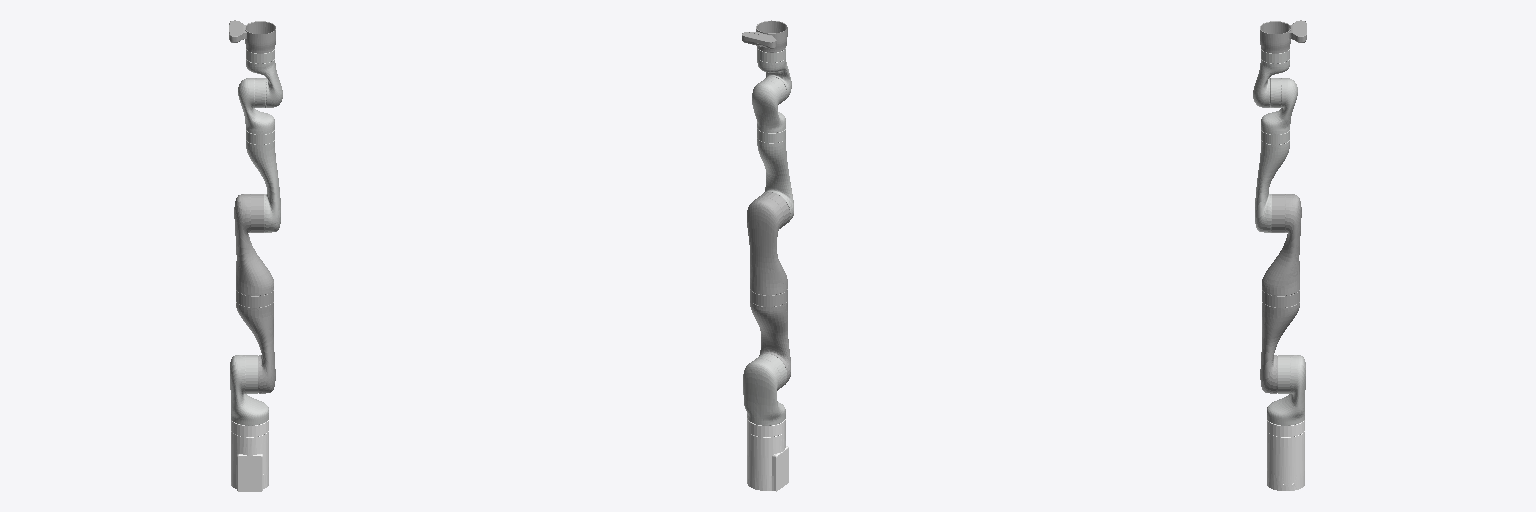
URDF robot description (GEN3-7DOF_BRAKES_VISION_URDF_ARM_V01):
<robot name="GEN3-7DOF_BRAKES_VISION_URDF_ARM_V01">
  <link name="base_link">
    <inertial>
      <origin xyz="-0.00075876 -0.00019207 0.09605351" rpy="0 0 0" />
      <mass value="1.7565703" />
      <inertia ixx="0.00562309" ixy="5.96E-06" ixz="6.235E-05" iyy="0.00551518" iyz="6.09E-06" izz="0.00205231" />
    </inertial>
    <visual name="base_link_visual">
      <origin xyz="0 0 0" rpy="0 0 0" />
      <geometry>
        <mesh filename="package://kortex_description/arms/gen3/7dof/meshes/base_link.obj" />
      </geometry>
      <material name="">
        <color rgba="1 1 1 1" />
      </material>
    </visual>
    <collision name="base_link_collision">
      <geometry>
	    <box size="0.094492 0.094157 0.172850"/> 
      </geometry>
		<origin xyz = "0.00019369274377822876 7.836706936359406e-05 0.08542499692793937" rpy="0 0 0" />
    </collision>
  </link>
  <link name="shoulder_link">
    <inertial>
      <origin xyz="-2.522E-05 -0.00759535 -0.08865077" rpy="0 0 0" />
      <mass value="1.46990145" />
      <inertia ixx="0.00432687" ixy="2.5E-07" ixz="9.4E-07" iyy="0.00447028" iyz="0.0001016" izz="0.00145324" />
    </inertial>
    <visual name="shoulder_link_visual">
      <origin xyz="0 0 0" rpy="0 0 0" />
      <geometry>
        <mesh filename="package://kortex_description/arms/gen3/7dof/meshes/shoulder_link.obj" />
      </geometry>
      <material name="">
        <color rgba="0.84706 0.8549 0.85098 1" />
      </material>
    </visual>
    <collision name="shoulder_link_collision">
      <geometry>
	    <box size="0.094717 0.096708 0.174000"/> 
      </geometry>
		<origin xyz = "0.0 -0.0012972410768270493 -0.08837500622030348" rpy="0 0 0" />
    </collision>
  </link>
  <joint name="joint_1" type="revolute">
    <origin xyz="0 0 0.15643" rpy="3.1416 0 0" />
    <parent link="base_link" />
    <child link="shoulder_link" />
    <axis xyz="0 0 1" />
    <limit lower="-3.1" upper="3.1" effort="9" velocity="1.2218" />
  </joint>
  <link name="half_arm_1_link">
    <inertial>
      <origin xyz="-4.533E-05 -0.12951716 -0.01354356" rpy="0 0 0" />
      <mass value="1.2357745" />
      <inertia ixx="0.0115879" ixy="-1.05E-06" ixz="5E-08" iyy="0.00104574" iyz="-0.00096902" izz="0.0116684" />
    </inertial>
    <visual name="half_arm_1_link_visual">
      <origin xyz="0 0 0" rpy="0 0 0" />
      <geometry>
        <mesh filename="package://kortex_description/arms/gen3/7dof/meshes/half_arm_1_link.obj" />
      </geometry>
      <material name="">
        <color rgba="0.75294 0.75294 0.75294 1" />
      </material>
    </visual>
    <collision name="half_arm_1_link_collision">
      <geometry>
	    <box size="0.094000 0.272800 0.097002"/> 
      </geometry>
		<origin xyz = "0.0 -0.08940000273287296 -0.007876858115196228" rpy="0 0 0" />
    </collision>
  </link>
  <joint name="joint_2" type="revolute">
    <origin xyz="0 0.005375 -0.12838" rpy="1.5708 0 0" />
    <parent link="shoulder_link" />
    <child link="half_arm_1_link" />
    <axis xyz="0 0 1" />
    <limit lower="-2.24" upper="2.24" effort="39" velocity="1.3963" />
  </joint>
  <link name="half_arm_2_link">
    <inertial>
      <origin xyz="-4.533E-05 -0.00361448 -0.14407154" rpy="0 0 0" />
      <mass value="1.2357745" />
      <inertia ixx="0.01009873" ixy="5.7E-07" ixz="1.89E-06" iyy="0.01017801" iyz="0.00013166" izz="0.00104697" />
    </inertial>
    <visual name="half_arm_2_link_visual">
      <origin xyz="0 0 0" rpy="0 0 0" />
      <geometry>
        <mesh filename="package://kortex_description/arms/gen3/7dof/meshes/half_arm_2_link.obj" />
      </geometry>
      <material name="">
        <color rgba="0.75294 0.75294 0.75294 1" />
      </material>
    </visual>
    <collision name="half_arm_2_link_collision">
      <geometry>
	    <box size="0.094000 0.097001 0.256000"/> 
      </geometry>
		<origin xyz = "0.0 -0.0015020743012428284 -0.12937500525731593" rpy="0 0 0" />
    </collision>
  </link>
  <joint name="joint_3" type="revolute">
    <origin xyz="0 -0.21038 -0.006375" rpy="-1.5708 0 0" />
    <parent link="half_arm_1_link" />
    <child link="half_arm_2_link" />
    <axis xyz="0 0 1" />
    <limit lower="-3.1" upper="3.1" effort="39" velocity="1.3963" />
  </joint>
  <link name="forearm_link">
    <inertial>
      <origin xyz="-0.00030188 -0.104938 -0.01559665" rpy="0 0 0" />
      <mass value="0.89954802" />
      <inertia ixx="0.00889854" ixy="1.98E-05" ixz="-2.39E-06" iyy="0.00060297" iyz="-0.00074456" izz="0.00898975" />
    </inertial>
    <visual name="forearm_link_visual">
      <origin xyz="0 0 0" rpy="0 0 0" />
      <geometry>
        <mesh filename="package://kortex_description/arms/gen3/7dof/meshes/forearm_link.obj" />
      </geometry>
      <material name="">
        <color rgba="0.84706 0.8549 0.85098 1" />
      </material>
    </visual>
    <collision name="forearm_link_collision">
      <geometry>
	    <box size="0.094000 0.268900 0.086586"/> 
      </geometry>
		<origin xyz = "0.0 -0.08744999952614307 -0.013647809624671936" rpy="0 0 0" />
    </collision>
  </link>
  <joint name="joint_4" type="revolute">
    <origin xyz="0 0.006375 -0.210375" rpy="1.5708 0 0" />
    <parent link="half_arm_2_link" />
    <child link="forearm_link" />
    <axis xyz="0 0 1" />
    <limit lower="-2.57" upper="2.57" effort="39" velocity="1.3963" />
  </joint>
  <link name="spherical_wrist_1_link">
    <inertial>
      <origin xyz="-0.00035363 -0.00659443 -0.07560343" rpy="0 0 0" />
      <mass value="0.70588351" />
      <inertia ixx="0.00145671" ixy="3.35E-06" ixz="7.62E-06" iyy="0.00145189" iyz="0.00012055" izz="0.00039299" />
    </inertial>
    <visual name="spherical_wrist_1_link_visual">
      <origin xyz="0 0 0" rpy="0 0 0" />
      <geometry>
        <mesh filename="package://kortex_description/arms/gen3/7dof/meshes/spherical_wrist_1_link.obj" />
      </geometry>
      <material name="">
        <color rgba="0.84706 0.8549 0.85098 1" />
      </material>
    </visual>
    <collision name="spherical_wrist_1_link_collision">
      <geometry>
	    <box size="0.071998 0.090046 0.140504"/> 
      </geometry>
		<origin xyz = "8.083879947662354e-07 -0.009023239836096764 -0.07175184157676995" rpy="0 0 0" />
    </collision>
  </link>
  <joint name="joint_5" type="revolute">
    <origin xyz="0 -0.208425 -0.006375" rpy="-1.5708 0 0" />
    <parent link="forearm_link" />
    <child link="spherical_wrist_1_link" />
    <axis xyz="0 0 1" />
    <limit lower="-3.1" upper="3.1" effort="9" velocity="1.2218" />
  </joint>
  <link name="spherical_wrist_2_link">
    <inertial>
      <origin xyz="-0.00035547 -0.06159424 -0.00850171" rpy="0 0 0" />
      <mass value="0.70583924" />
      <inertia ixx="0.00187208" ixy="6.1E-06" ixz="-2.17E-06" iyy="0.00041077" iyz="-0.00033774" izz="0.0018494" />
    </inertial>
    <visual name="spherical_wrist_2_link_visual">
      <origin xyz="0 0 0" rpy="0 0 0" />
      <geometry>
        <mesh filename="package://kortex_description/arms/gen3/7dof/meshes/spherical_wrist_2_link.obj" />
      </geometry>
      <material name="">
        <color rgba="0.84706 0.8549 0.85098 1" />
      </material>
    </visual>
    <collision name="spherical_wrist_2_link_collision">
      <geometry>
	    <box size="0.072000 0.155478 0.090152"/> 
      </geometry>
		<origin xyz = "0.0 -0.041660889983177185 -0.009251080453395844" rpy="0 0 0" />
    </collision>
  </link>
  <joint name="joint_6" type="revolute">
    <origin xyz="0 0.00017505 -0.10592505" rpy="1.5708 0 0" />
    <parent link="spherical_wrist_1_link" />
    <child link="spherical_wrist_2_link" />
    <axis xyz="0 0 1" />
    <limit lower="-2.09" upper="2.09" effort="9" velocity="1.2218" />
  </joint>
  <link name="bracelet_link">
    <inertial>
      <origin xyz="-0.00027419 -0.01170136 -0.03437502" rpy="0 0 0" />
      <mass value="0.43504643" />
      <inertia ixx="0.00048886" ixy="2.59E-06" ixz="1.75E-06" iyy="0.00029425" iyz="8.248E-05" izz="0.000542" />
    </inertial>
    <visual name="bracelet_link_visual">
      <origin xyz="0 0 0" rpy="0 0 0" />
      <geometry>
        <mesh filename="package://kortex_description/arms/gen3/7dof/meshes/bracelet_with_vision_link.obj" />
      </geometry>
      <material name="">
        <color rgba="0.75294 0.75294 0.75294 1" />
      </material>
    </visual>
    <collision name="bracelet_link_collision">
      <geometry>
	    <box size="0.093000 0.114171 0.063925"/> 
      </geometry>
		<origin xyz = "0.0 -0.018585439771413803 -0.0334624988026917" rpy="0 0 0" />
    </collision>
  </link>
  <joint name="joint_7" type="revolute">
    <origin xyz="0 -0.10592505 -0.00017505" rpy="-1.5708 0 0" />
    <parent link="spherical_wrist_2_link" />
    <child link="bracelet_link" />
    <axis xyz="0 0 1" />
    <limit lower="-3.1" upper="3.1" effort="9" velocity="1.2218" />
  </joint>
  <link name="end_effector_link">
    <inertial>
      <origin xyz="0 0 0" rpy="0 0 0" />
      <mass value="0" />
      <inertia ixx="0" ixy="0" ixz="0" iyy="0" iyz="0" izz="0" />
    </inertial>
  </link>
  <joint name="end_effector" type="fixed">
    <origin xyz="0 0 -0.061525" rpy="3.1416 0 0" />
    <parent link="bracelet_link" />
    <child link="end_effector_link" />
    <axis xyz="0 0 0" />
  </joint>
  <link name="camera_link" />
  <joint name="camera_module" type="fixed">
    <origin xyz="0 0.05639 -0.00305" rpy="3.14159265358979 3.14159265358979 0" />
    <parent link="end_effector_link" />
    <child link="camera_link" />
  </joint>
  <link name="camera_depth_frame" />
  <joint name="depth_module" type="fixed">
    <origin xyz="0.0275 0.066 -0.00305" rpy="3.14159265358979 3.14159265358979 0" />
    <parent link="end_effector_link" />
    <child link="camera_depth_frame" />
  </joint>
  <link name="camera_color_frame" />
  <joint name="color_module" type="fixed">
    <origin xyz="0 0.05639 -0.00305" rpy="3.14159265358979 3.14159265358979 0" />
    <parent link="end_effector_link" />
    <child link="camera_color_frame" />
  </joint>
</robot>

--- Render facts (derived) ---
The picture shows the robot from 3 angles, left to right: view 1: azimuth 90°, elevation 25°; view 2: azimuth 150°, elevation 25°; view 3: azimuth 270°, elevation 25°; orthographic projection.
Robot: GEN3-7DOF_BRAKES_VISION_URDF_ARM_V01 — 12 links, 11 joints (7 revolute, 4 fixed); root link base_link; default pose: all joints at 0.
Visible links, largest first — view 1: half_arm_2_link, base_link, half_arm_1_link, shoulder_link, forearm_link, spherical_wrist_1_link, bracelet_link, spherical_wrist_2_link; view 2: half_arm_2_link, base_link, shoulder_link, half_arm_1_link, forearm_link, spherical_wrist_1_link, bracelet_link, spherical_wrist_2_link; view 3: half_arm_2_link, base_link, half_arm_1_link, shoulder_link, forearm_link, spherical_wrist_1_link, bracelet_link, spherical_wrist_2_link.
Link boxes in pixels (<box>): half_arm_2_link: <box>234,194,273,295</box>; base_link: <box>231,420,268,491</box>; half_arm_1_link: <box>236,290,275,393</box>; shoulder_link: <box>230,355,268,425</box>; forearm_link: <box>246,130,280,232</box>; spherical_wrist_1_link: <box>238,78,274,134</box>; bracelet_link: <box>229,20,275,53</box>; spherical_wrist_2_link: <box>246,49,282,107</box>; half_arm_2_link: <box>747,192,789,295</box>; base_link: <box>747,418,788,491</box>; shoulder_link: <box>743,354,786,425</box>; half_arm_1_link: <box>750,289,790,384</box>; forearm_link: <box>757,128,793,222</box>; spherical_wrist_1_link: <box>752,76,786,132</box>; bracelet_link: <box>742,20,787,52</box>; spherical_wrist_2_link: <box>757,48,791,100</box>; half_arm_2_link: <box>1262,194,1301,295</box>; base_link: <box>1267,420,1304,490</box>; half_arm_1_link: <box>1260,290,1299,393</box>; shoulder_link: <box>1267,355,1305,425</box>; forearm_link: <box>1255,130,1289,232</box>; spherical_wrist_1_link: <box>1261,78,1297,134</box>; bracelet_link: <box>1260,20,1306,53</box>; spherical_wrist_2_link: <box>1253,49,1289,107</box>.
Bounding box of the posed robot: 0.0928 × 0.1278 × 1.19 m (x, y, z).
8 mesh visuals loaded from 8 distinct referenced files (8 OBJ).